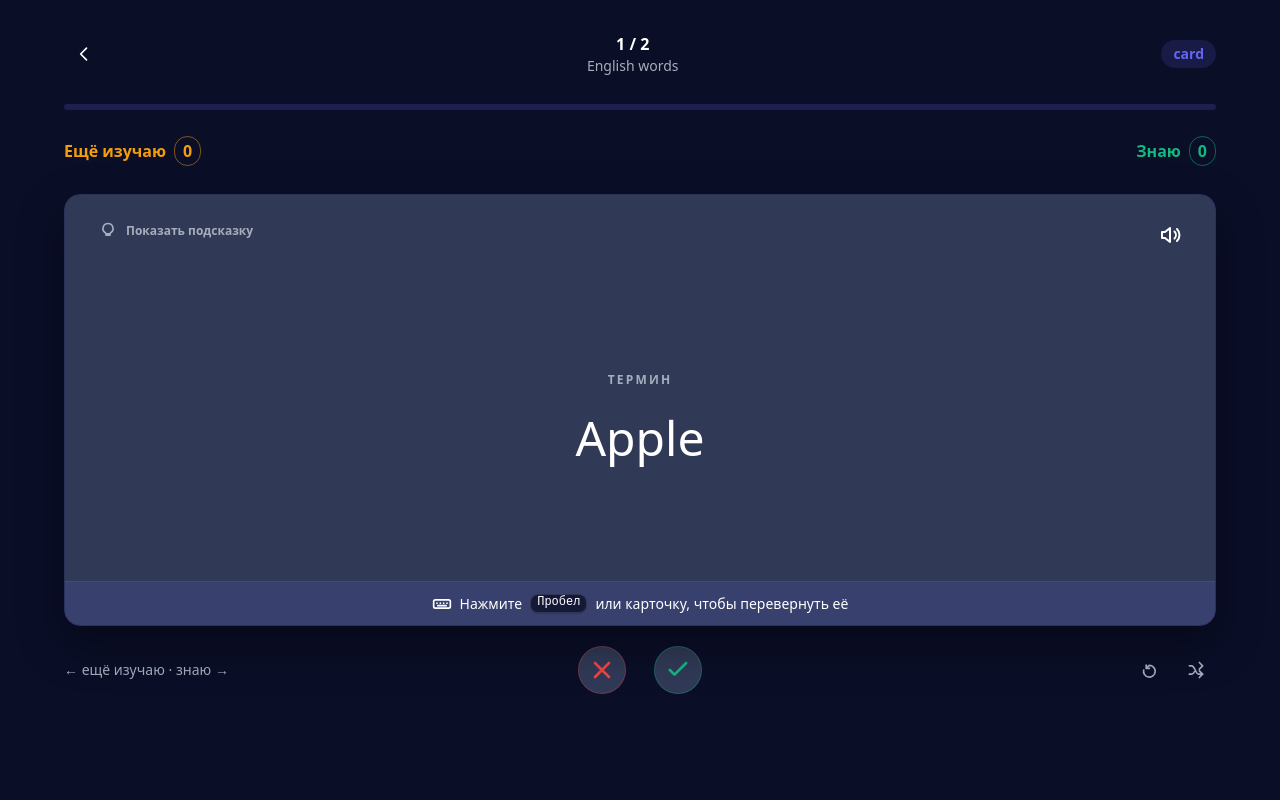
Test: CardExercise › rates cards, advances progress, and supports undo
Expected: the text "Apple" is shown, [575,405,705,470]
Click the button named "Знаю".
click(678, 670)  # box [654,646,702,694]
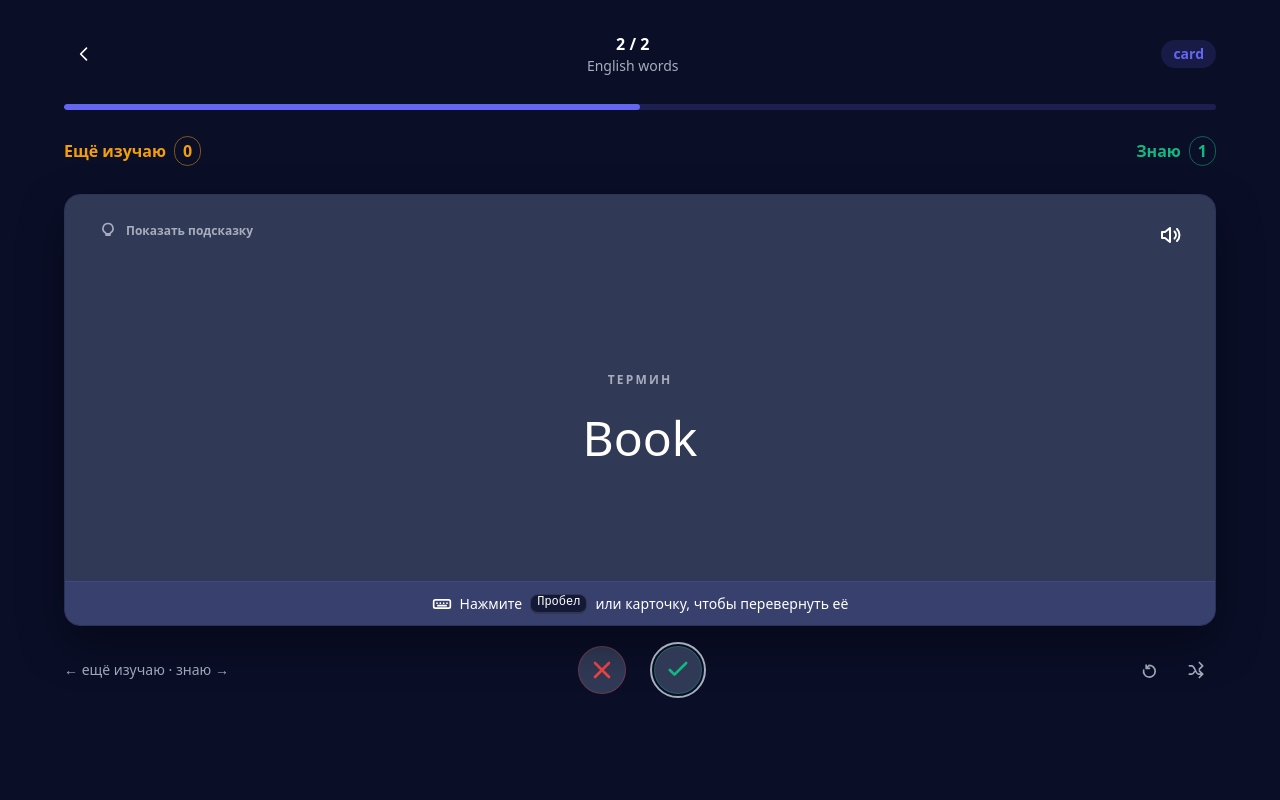
Now the text "Book" is shown, box [582,405,697,470]
Now the progress indicator named "Прогресс: 50%" is shown, box [64,104,1216,110]
Now the text "2 / 2" is shown, box [616,33,649,55]
Click the button named "Отменить последний ответ".
click(1152, 670)  # box [1132,650,1172,690]
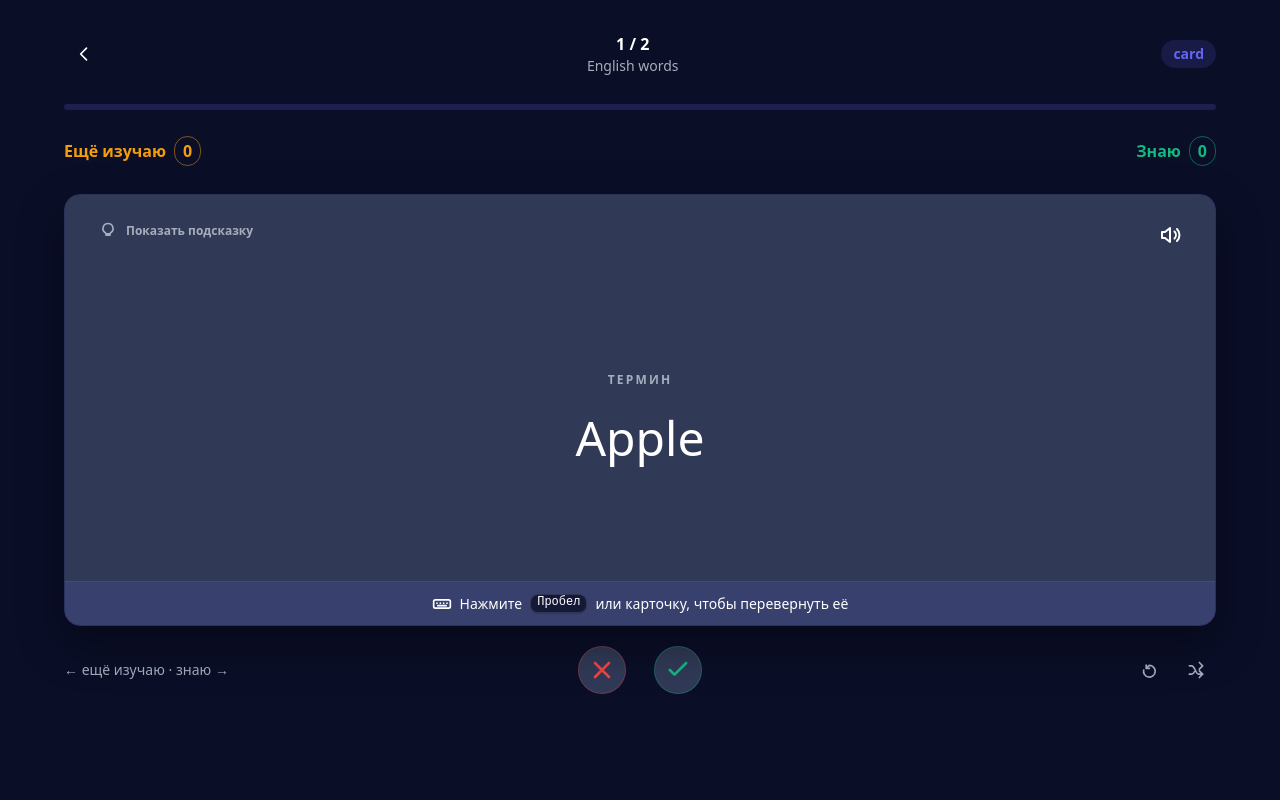
Now the text "Apple" is shown, box [575,405,705,470]
Now the progress indicator named "Прогресс: 0%" is shown, box [64,104,1216,110]
